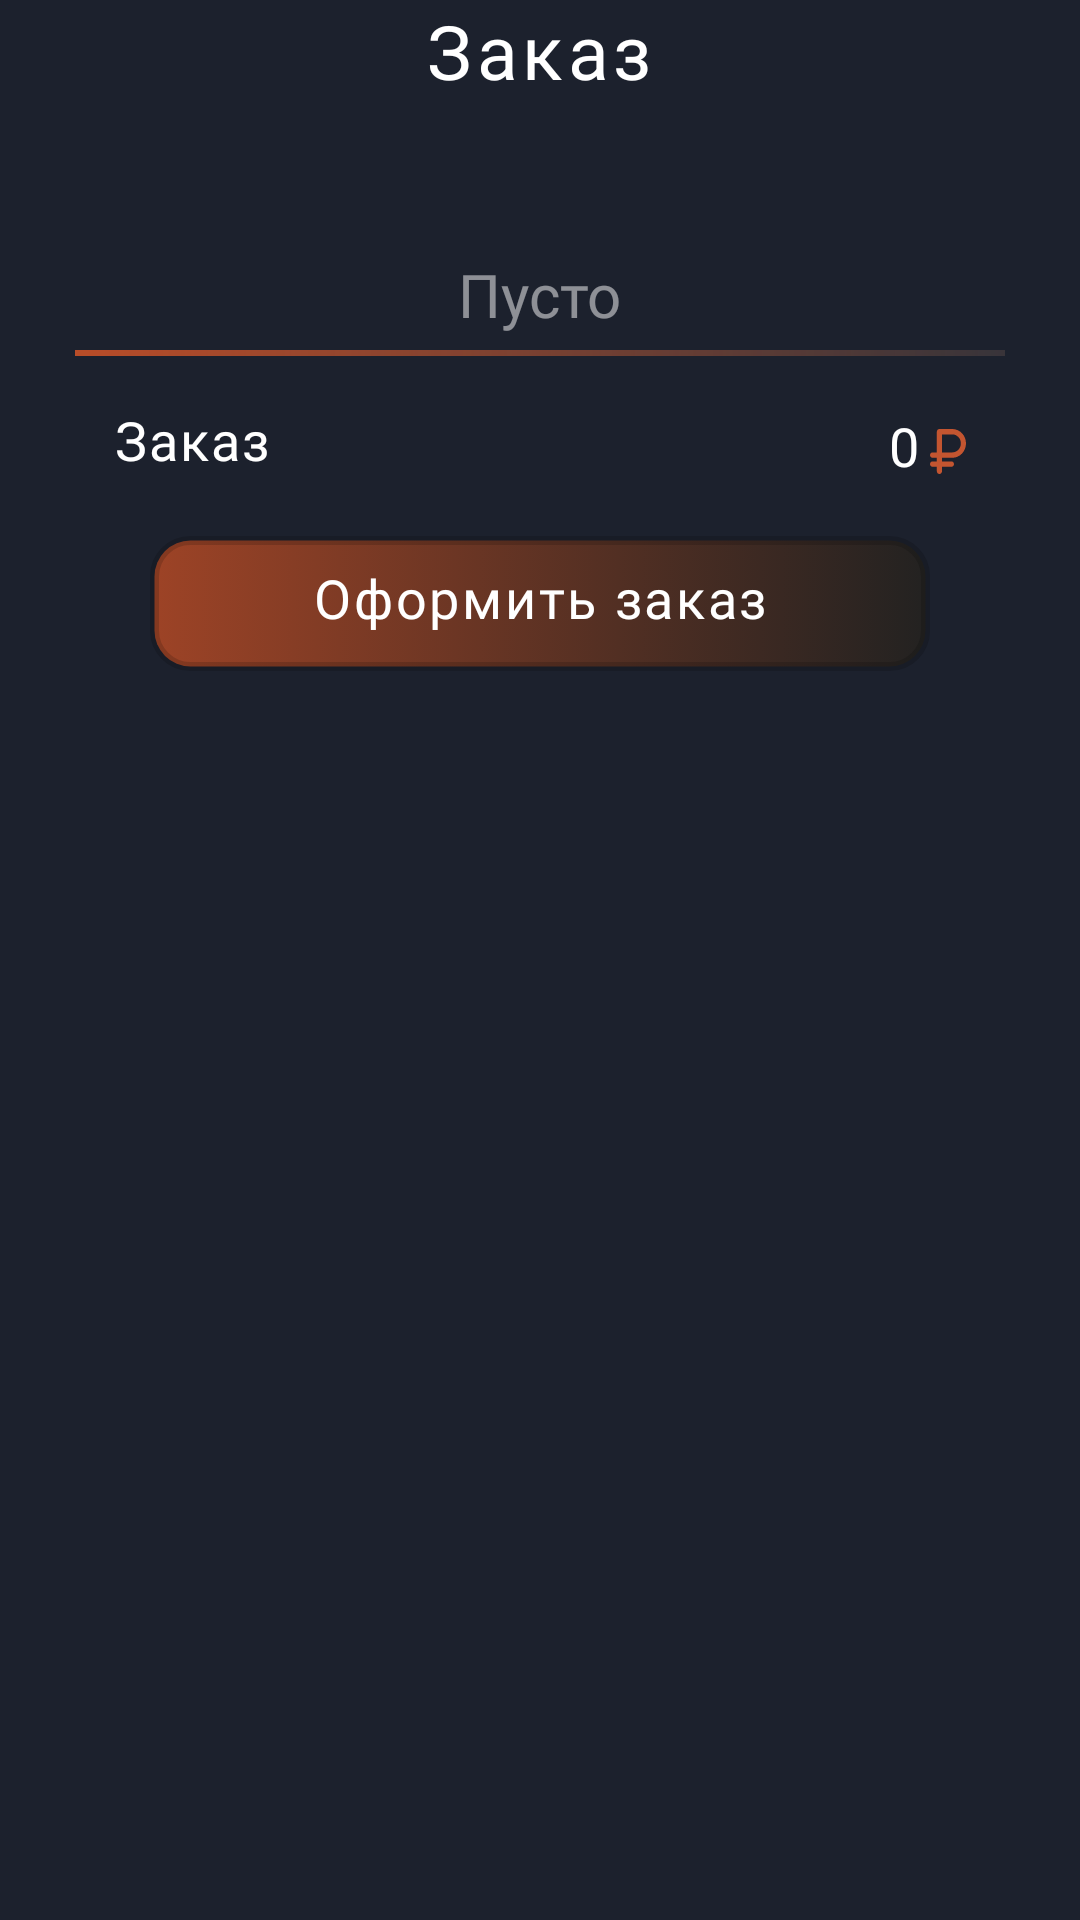

Icons on this 1080*1920 Android screen, each with its box as (x1, y1, x2, y2):
rub: (930, 429, 966, 474)
